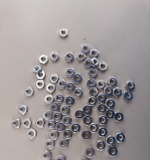nut: (114, 112, 125, 123), (85, 148, 96, 158), (96, 141, 106, 152), (108, 147, 119, 157), (106, 136, 117, 146), (115, 133, 126, 143), (45, 139, 55, 150), (59, 139, 69, 150), (74, 88, 84, 99), (57, 79, 67, 90), (49, 130, 59, 141), (43, 110, 53, 121), (55, 123, 66, 133), (124, 91, 134, 101), (126, 81, 136, 91), (108, 77, 118, 87), (113, 88, 123, 98), (106, 99, 116, 109), (98, 116, 108, 126), (98, 128, 108, 138), (82, 131, 92, 141), (71, 124, 81, 134), (35, 119, 45, 129), (26, 129, 36, 139), (22, 119, 32, 129), (11, 119, 21, 129), (18, 105, 28, 115), (24, 87, 34, 97), (44, 95, 54, 105), (35, 80, 45, 90), (46, 83, 56, 93), (55, 94, 65, 104), (65, 96, 75, 106), (83, 105, 93, 115), (75, 110, 85, 120), (83, 116, 93, 126), (89, 124, 99, 134), (65, 53, 75, 63), (50, 52, 60, 62), (32, 65, 42, 75), (97, 104, 107, 114), (88, 97, 98, 107), (87, 79, 97, 89), (89, 87, 99, 97), (88, 68, 98, 78), (46, 120, 56, 130), (62, 116, 72, 126), (52, 112, 62, 122), (63, 130, 73, 140), (59, 28, 69, 38), (42, 151, 52, 160), (39, 55, 48, 65), (66, 68, 75, 78), (73, 74, 82, 84), (66, 83, 75, 93), (50, 74, 59, 84), (36, 71, 46, 80), (99, 62, 108, 72), (51, 103, 60, 113), (61, 106, 70, 116), (97, 81, 106, 90), (104, 87, 113, 96), (90, 49, 99, 58), (77, 52, 86, 61), (84, 59, 93, 68), (91, 58, 100, 67), (81, 45, 91, 53), (106, 110, 114, 120), (99, 94, 107, 103), (56, 156, 66, 160), (81, 159, 91, 160)
